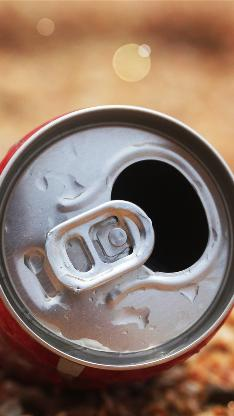Can: (2, 106, 232, 388)
